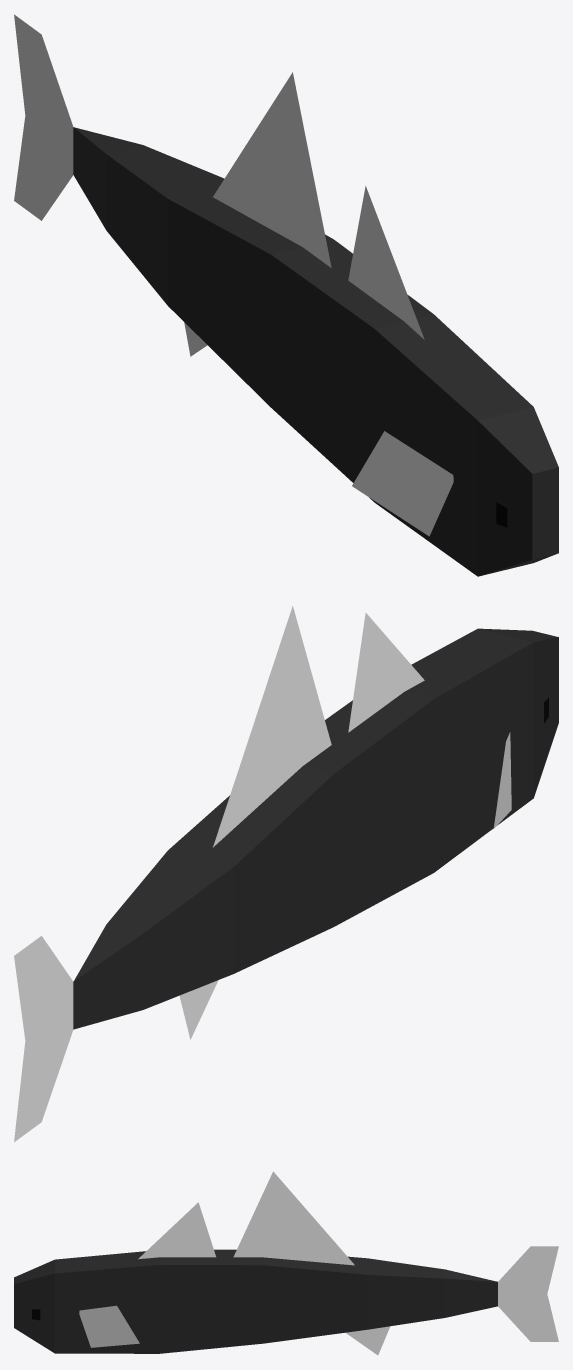
File: 12barracuda.fbx
3 views of the same model, one above another, from view 1: azimuth 30°, elevation 25°; view 2: azimuth 150°, elevation 25°; view 3: azimuth 270°, elevation 25° (orthographic). The views are drawn at different scales.
Visible parts, largest first — view 1: Tropical Fish 12; view 2: Tropical Fish 12; view 3: Tropical Fish 12.
Boxes of the visible parts, x1=… form: Tropical Fish 12: x1=14, y1=14, x2=558, y2=576; Tropical Fish 12: x1=14, y1=606, x2=558, y2=1141; Tropical Fish 12: x1=14, y1=1171, x2=558, y2=1355.
Bounding box in the file's own units: 38.5 × 93.38 × 250.
